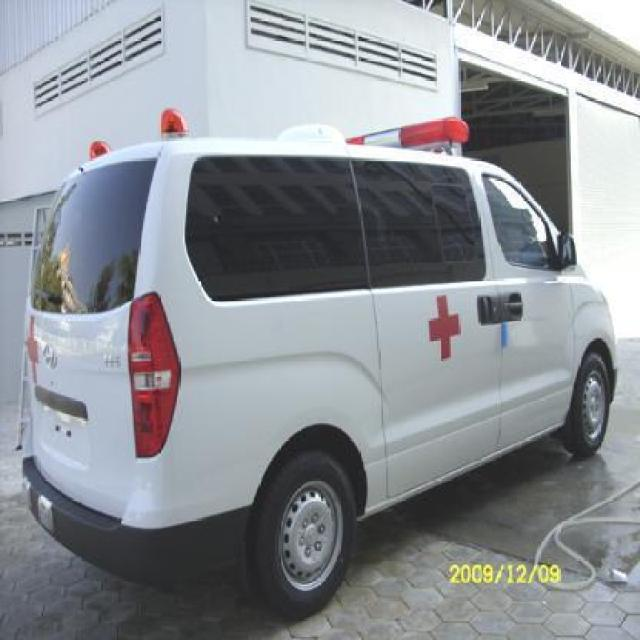Ambulance: (17, 132, 619, 598)
